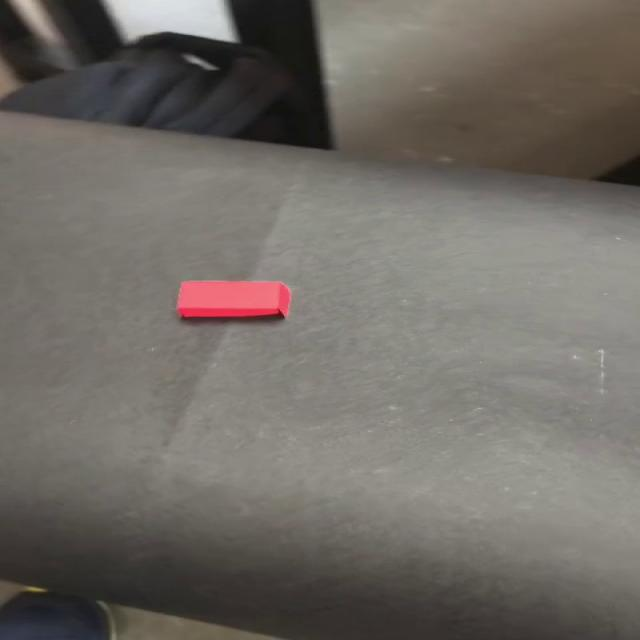red block: (175, 279, 292, 319)
